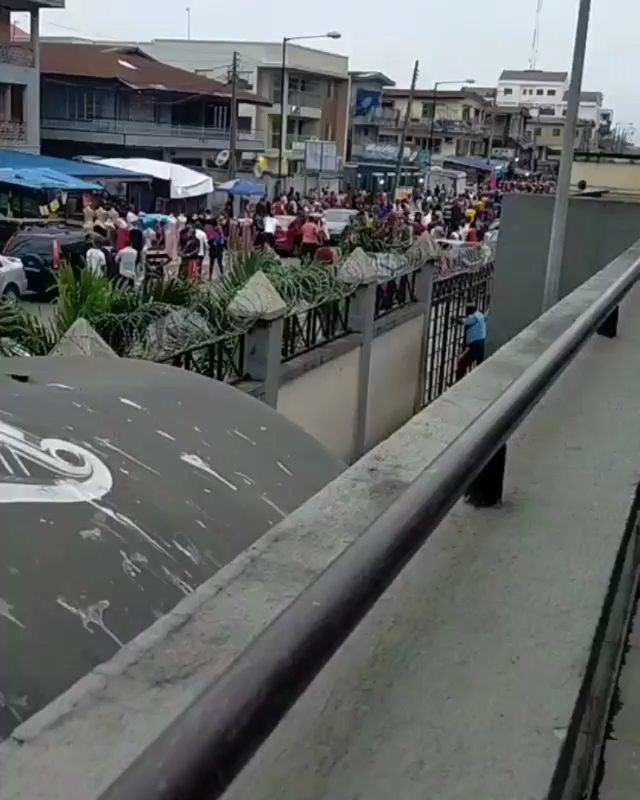barbed wire: (86, 235, 451, 373)
building: (34, 15, 251, 205), (183, 22, 354, 170), (499, 75, 607, 163), (396, 80, 493, 163)
sky: (381, 1, 640, 80)
